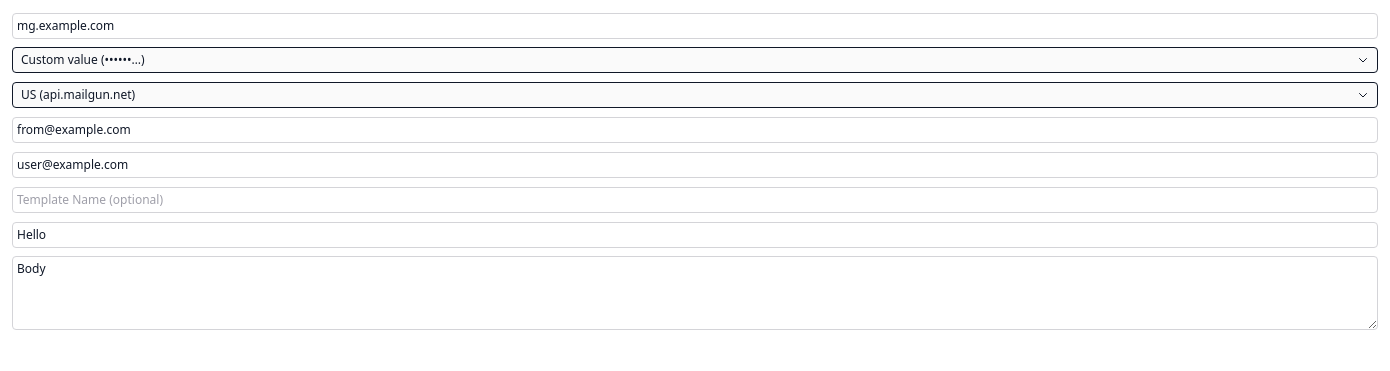
it: MailGunAction › surfaces validation errors for invalid recipients
Replace the text in the 3rd field with placeholder "To (comma separated)" with "invalid-email": (695, 165) [12,152,1378,178]
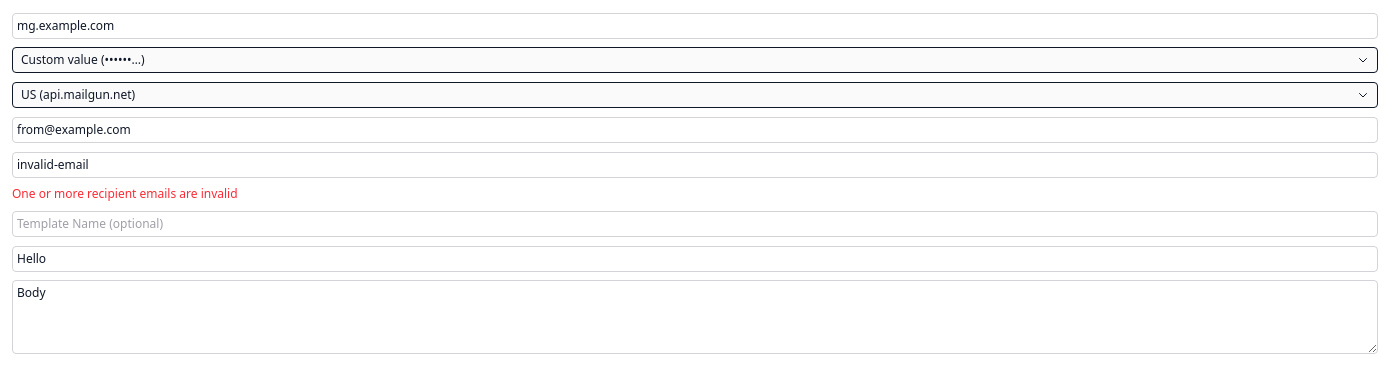
Result: the text "One or more recipient emails are invalid" is shown at [12,185,238,202]
